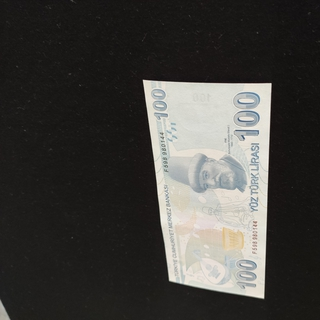100TLBack: (142, 79, 272, 299)
